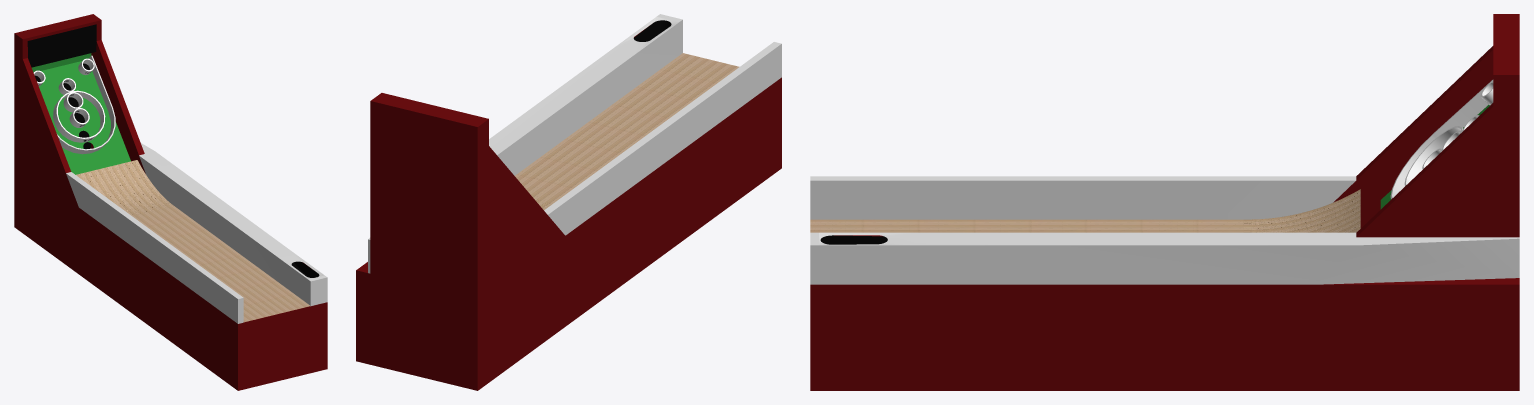
The model's file is machine.glb.
3 views of the same model, side by side, from view 1: azimuth 30°, elevation 25°; view 2: azimuth 150°, elevation 25°; view 3: azimuth 270°, elevation 25° (orthographic). The views are drawn at different scales.
Parts seen in each view (by area): view 1: Body, Alley, Backboard, 10Loop, 20Ring; view 2: Body, Alley; view 3: Body, Alley, 10Loop, 20Ring.
Part boxes in pixels (bbox=[...]): Body: bbox=[14, 14, 327, 390]; Alley: bbox=[76, 160, 310, 322]; Backboard: bbox=[32, 53, 130, 174]; 10Loop: bbox=[57, 55, 115, 154]; 20Ring: bbox=[53, 90, 105, 142]; Body: bbox=[356, 14, 781, 390]; Alley: bbox=[515, 53, 739, 209]; Body: bbox=[810, 14, 1519, 390]; Alley: bbox=[810, 189, 1360, 232]; 10Loop: bbox=[1390, 79, 1493, 199]; 20Ring: bbox=[1404, 126, 1462, 185].
Bounding box in the file's own units: 0.8501 × 1.76 × 3.68.
10 materials, 6 textured.
